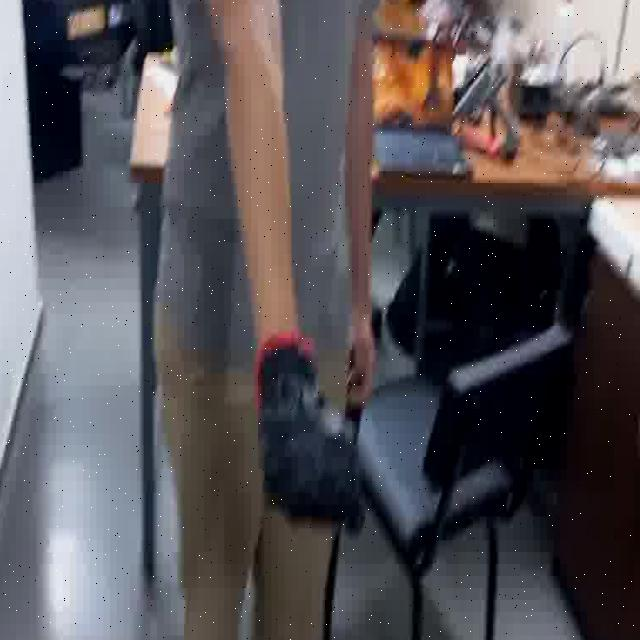Gloves: (254, 341, 377, 535)
